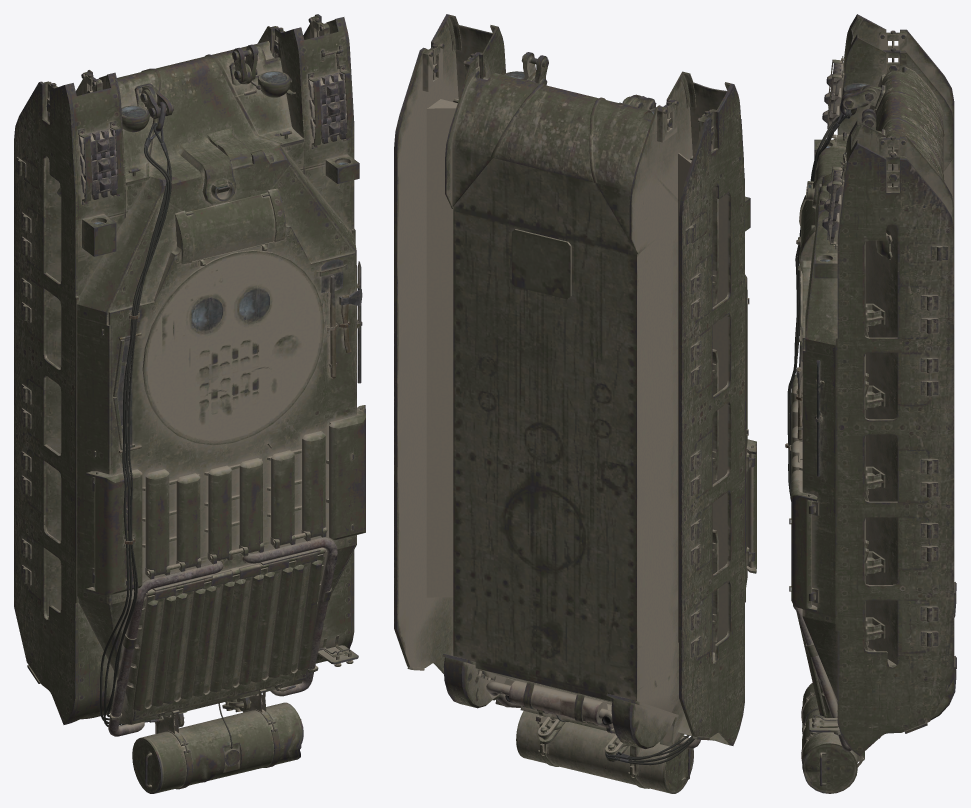
The model's file is Hull.glb.
3 views of the same model, side by side, from view 1: azimuth 30°, elevation 25°; view 2: azimuth 150°, elevation 25°; view 3: azimuth 270°, elevation 25° (orthographic). The views are drawn at different scales.
Parts seen in each view (by area): view 1: set_0_group_0; view 2: set_0_group_0; view 3: set_0_group_0.
Part boxes in pixels (bbox=[...]): set_0_group_0: bbox=[14, 14, 365, 793]; set_0_group_0: bbox=[394, 14, 756, 793]; set_0_group_0: bbox=[785, 14, 956, 793].
Size of the model in its own units: 2.58 by 6.15 by 1.4.
Materials: 1 (1 with a texture image).
